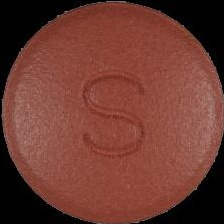50436-9952: (0, 0, 224, 224)
